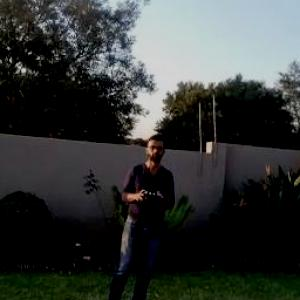follow: (100, 125, 179, 299)
